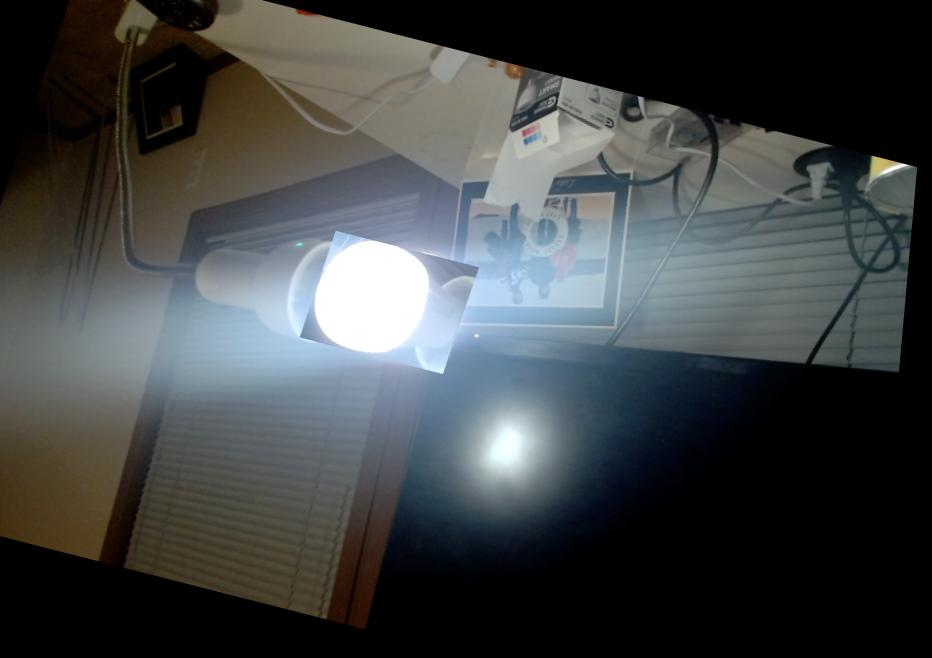TubeLight: (302, 230, 485, 373)
